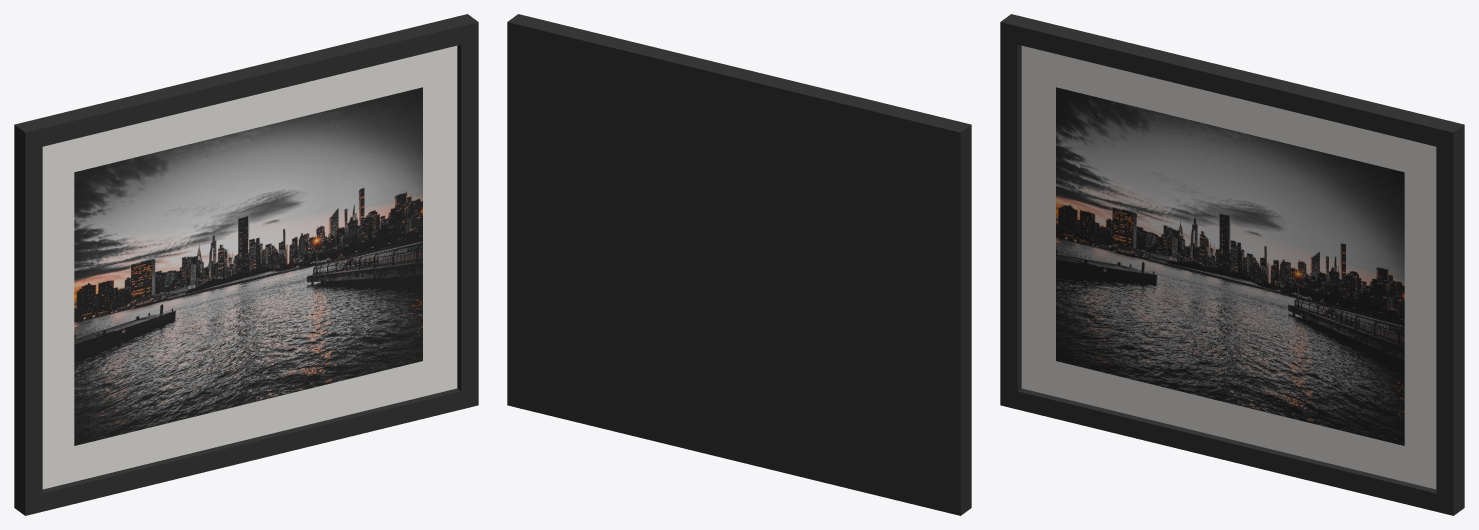
File: manhattan-40.gltf
The picture shows the model from 3 angles, left to right: view 1: azimuth 30°, elevation 25°; view 2: azimuth 150°, elevation 25°; view 3: azimuth 330°, elevation 25°; orthographic projection.
Visible parts, largest first — view 1: tavla; view 2: tavla; view 3: tavla.
Part boxes in pixels (left/top/right/bottom): tavla: left=14, top=14, right=478, bottom=515; tavla: left=507, top=14, right=971, bottom=515; tavla: left=1000, top=14, right=1464, bottom=515.
Size of the model in its own units: 0.52 by 0.42 by 0.022.
Materials: 3 (1 with a texture image).
